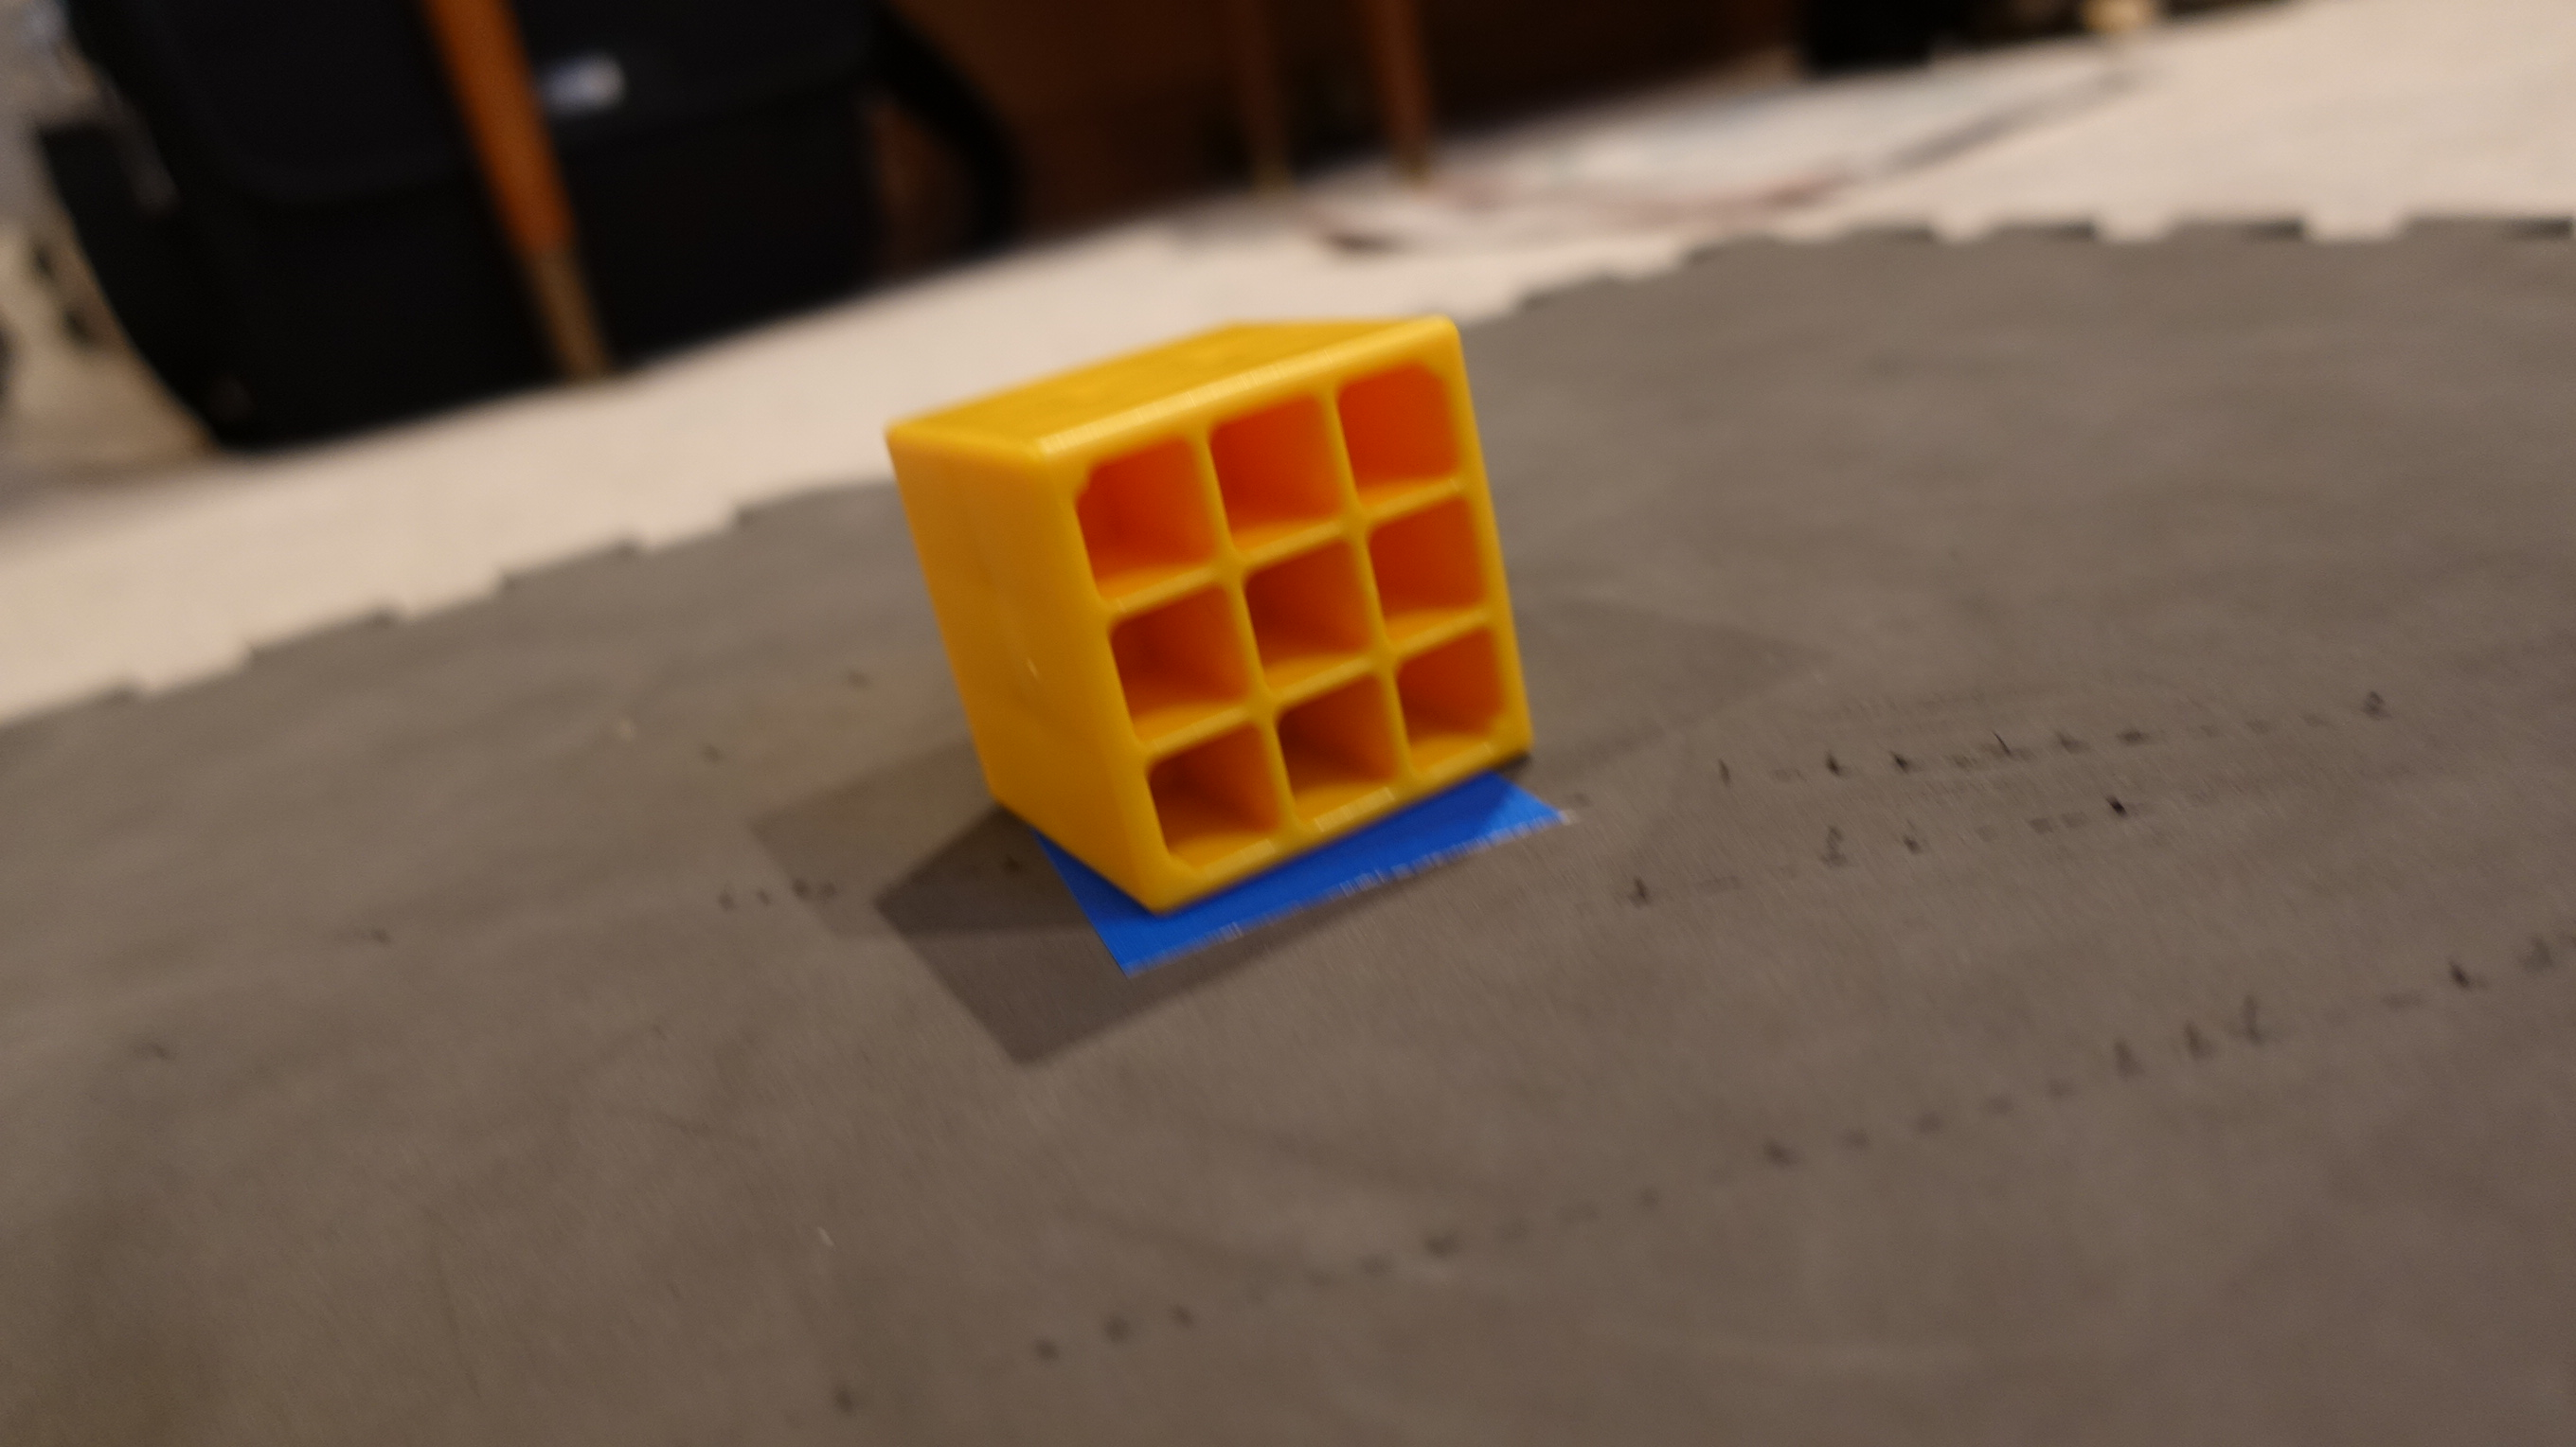gold: (881, 306, 1543, 915)
